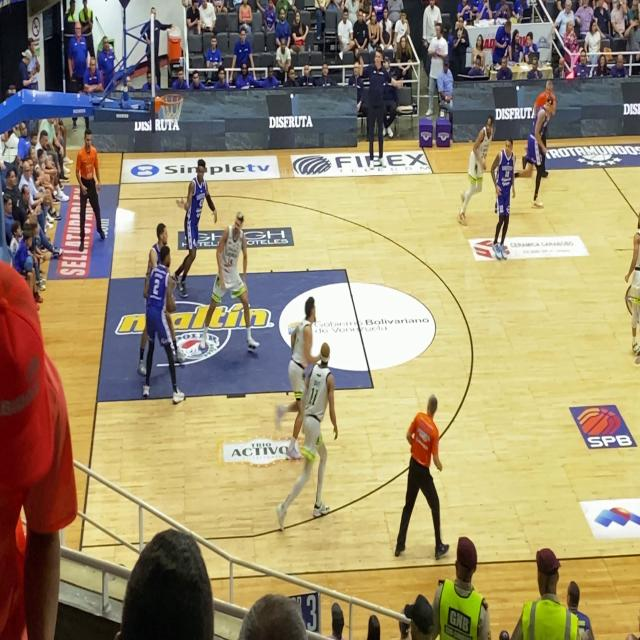referee: (394, 378, 452, 576), (71, 125, 110, 250)
team1: (282, 336, 340, 541), (198, 203, 260, 366), (279, 283, 321, 436), (454, 119, 498, 230), (619, 185, 640, 365)
team2: (139, 231, 180, 411), (172, 153, 214, 292), (522, 93, 558, 222), (492, 134, 520, 268), (139, 205, 171, 289)
ubasket: (159, 90, 183, 127)
